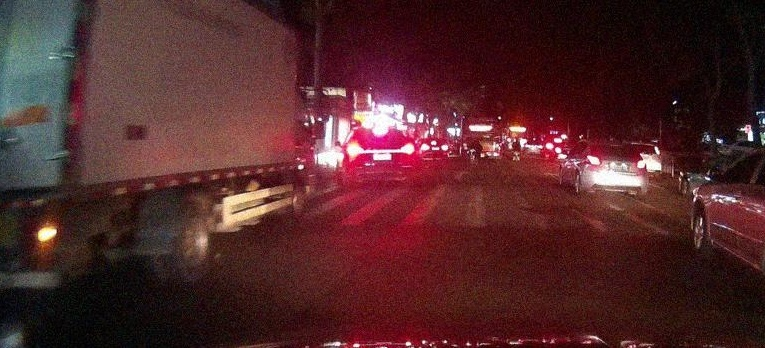L_light: (587, 156, 601, 166), (347, 147, 362, 155)
R_light: (401, 145, 415, 154)
T_light: (373, 128, 388, 133), (612, 144, 623, 148)
day-no: (637, 160, 645, 168)
night-left: (345, 125, 420, 186)
night-no: (585, 140, 648, 196)
